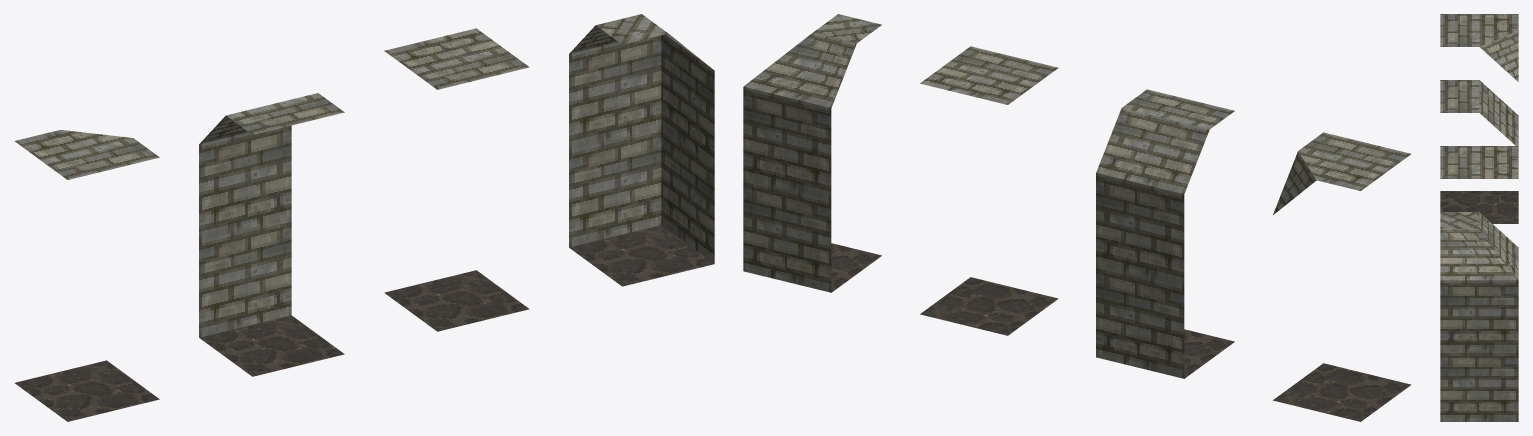
The model's file is tileset.glb.
The picture shows the model from 3 angles, left to right: view 1: azimuth 30°, elevation 25°; view 2: azimuth 150°, elevation 25°; view 3: azimuth 270°, elevation 25°; orthographic projection. The views are drawn at different scales.
Visible parts, largest first — view 1: corner-in-col, wall-col, floor-col, corner-out-col; view 2: wall-col, corner-in-col, corner-out-col, floor-col; view 3: corner-in-col, corner-out-col, wall-col, floor-col.
Boxes of the visible parts, x1=… form: corner-in-col: x1=569, y1=14, x2=714, y2=286; wall-col: x1=199, y1=93, x2=344, y2=376; floor-col: x1=384, y1=28, x2=529, y2=331; corner-out-col: x1=14, y1=130, x2=159, y2=421; wall-col: x1=1096, y1=89, x2=1234, y2=378; corner-in-col: x1=743, y1=14, x2=881, y2=292; corner-out-col: x1=1273, y1=132, x2=1411, y2=421; floor-col: x1=920, y1=46, x2=1058, y2=335; corner-in-col: x1=1440, y1=212, x2=1518, y2=421; corner-out-col: x1=1440, y1=14, x2=1518, y2=223; wall-col: x1=1440, y1=80, x2=1518, y2=145; floor-col: x1=1440, y1=146, x2=1518, y2=178.
Bounding box in the file's own units: 7 × 2.5 × 1.
1 material, 1 textured.
